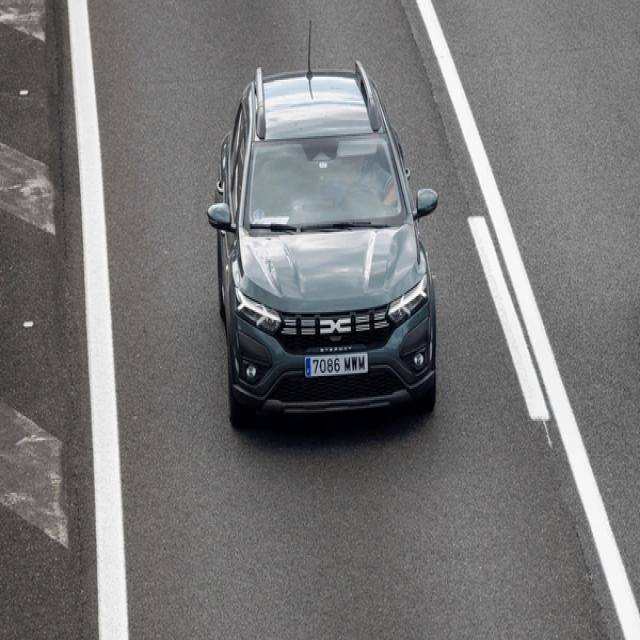dacia: (317, 316, 353, 334)
